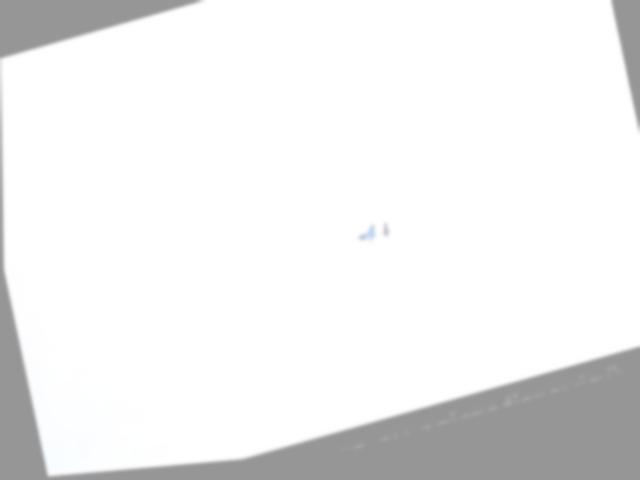uav: (342, 213, 399, 265)
